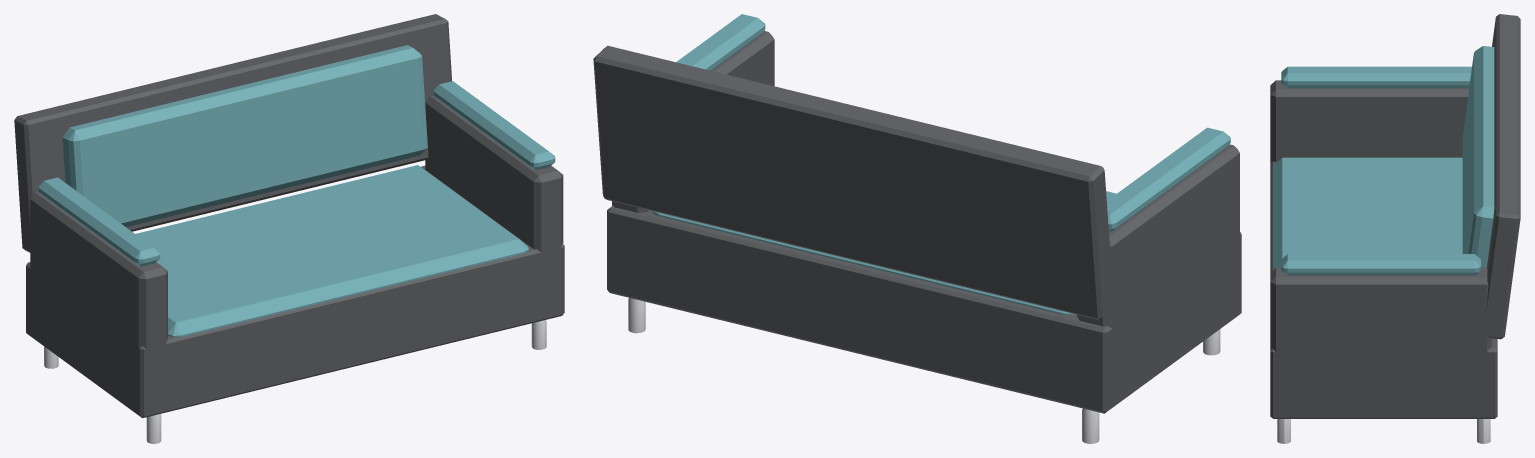
File: 35523_Green_Room_Sofa__TV_Studio_and_Broadcast_Gallery_.glb
3 views of the same model, side by side, from view 1: azimuth 30°, elevation 25°; view 2: azimuth 150°, elevation 25°; view 3: azimuth 270°, elevation 25° (orthographic). The views are drawn at different scales.
Parts seen in each view (by area): view 1: green-room-sofa; view 2: green-room-sofa; view 3: green-room-sofa.
Boxes of the visible parts, box(x1,y1,x2,y2) form: green-room-sofa: box(14, 14, 564, 443); green-room-sofa: box(593, 14, 1241, 443); green-room-sofa: box(1270, 14, 1520, 443).
Bounding box in the file's own units: 1.72 × 0.9404 × 0.9032.
